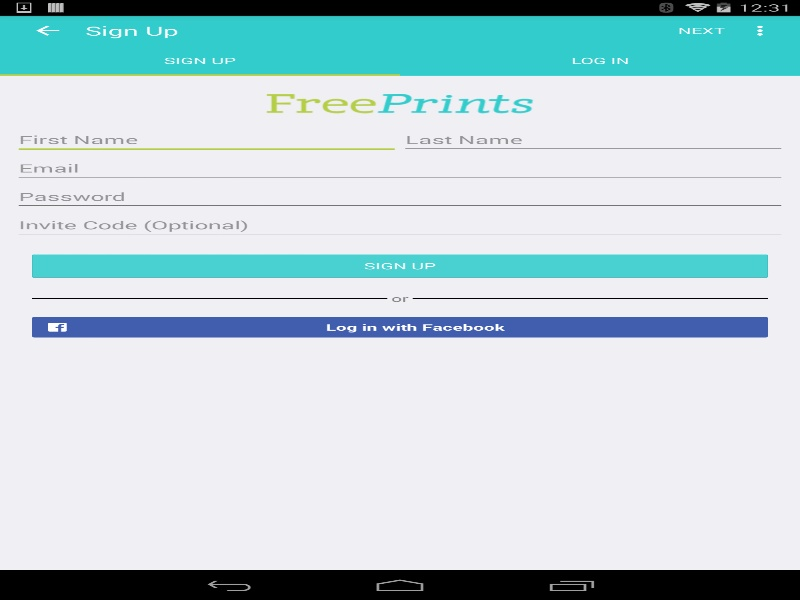Button: (26, 251, 773, 280), (32, 316, 768, 337), (10, 15, 85, 45)
Input: (13, 210, 786, 239), (13, 154, 786, 182), (13, 182, 786, 210), (13, 125, 400, 154), (400, 125, 786, 154)
